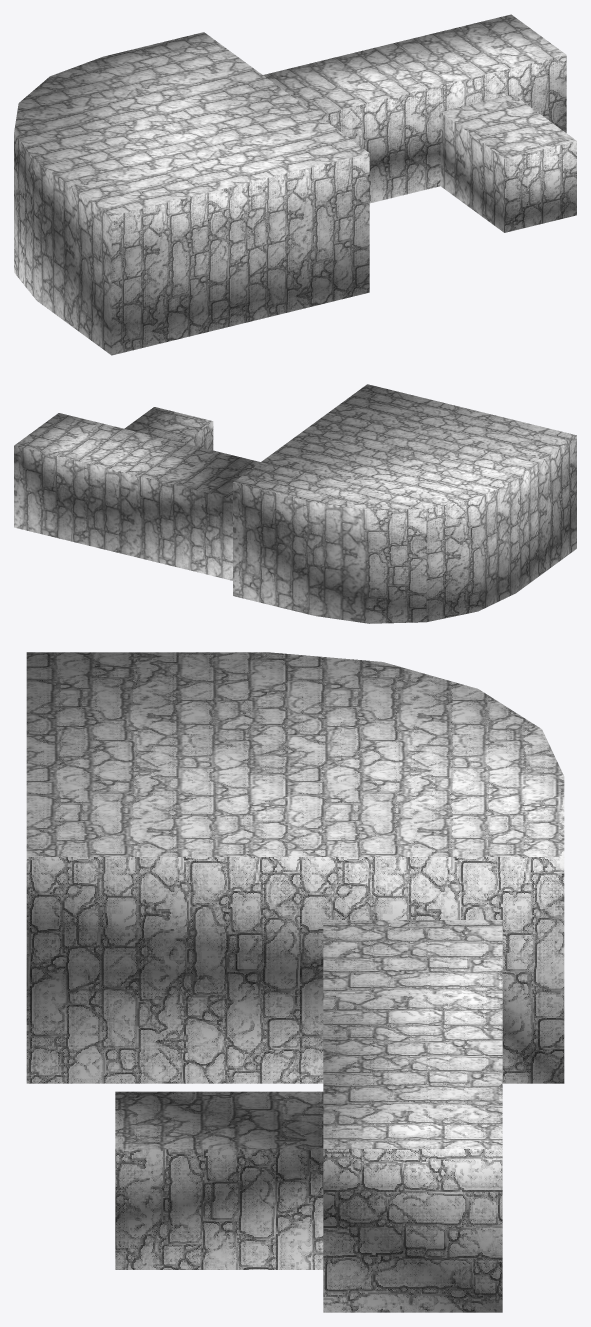
3 renders of one model, top to bottom at view 1: azimuth 30°, elevation 25°; view 2: azimuth 150°, elevation 25°; view 3: azimuth 270°, elevation 25°, orthographic. The views are drawn at different scales.
Parts seen in each view (by area): view 1: Cube; view 2: Cube; view 3: Cube.
Boxes of the visible parts, left/top/right/bottom form: Cube: left=14, top=14, right=576, bottom=355; Cube: left=14, top=384, right=576, bottom=623; Cube: left=26, top=652, right=564, bottom=1312.
Bounding box in the file's own units: 15.21 × 3.71 × 7.98.
1 material, 1 textured.
